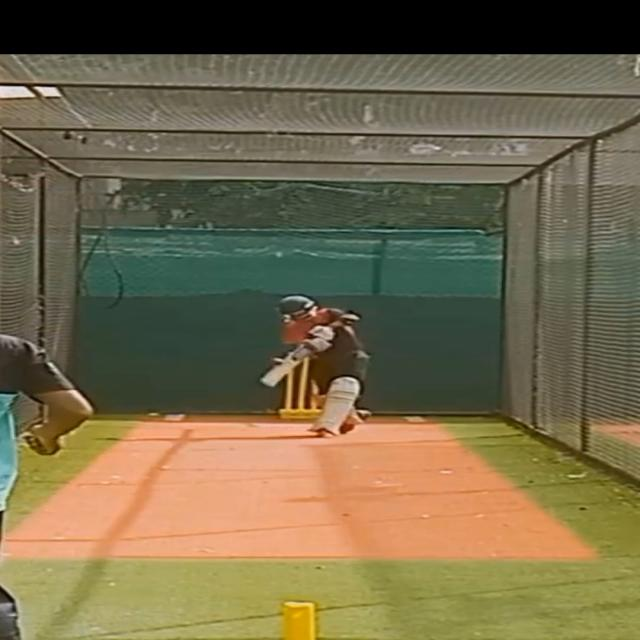ball: (269, 356, 288, 366)
stump: (277, 358, 324, 419)
